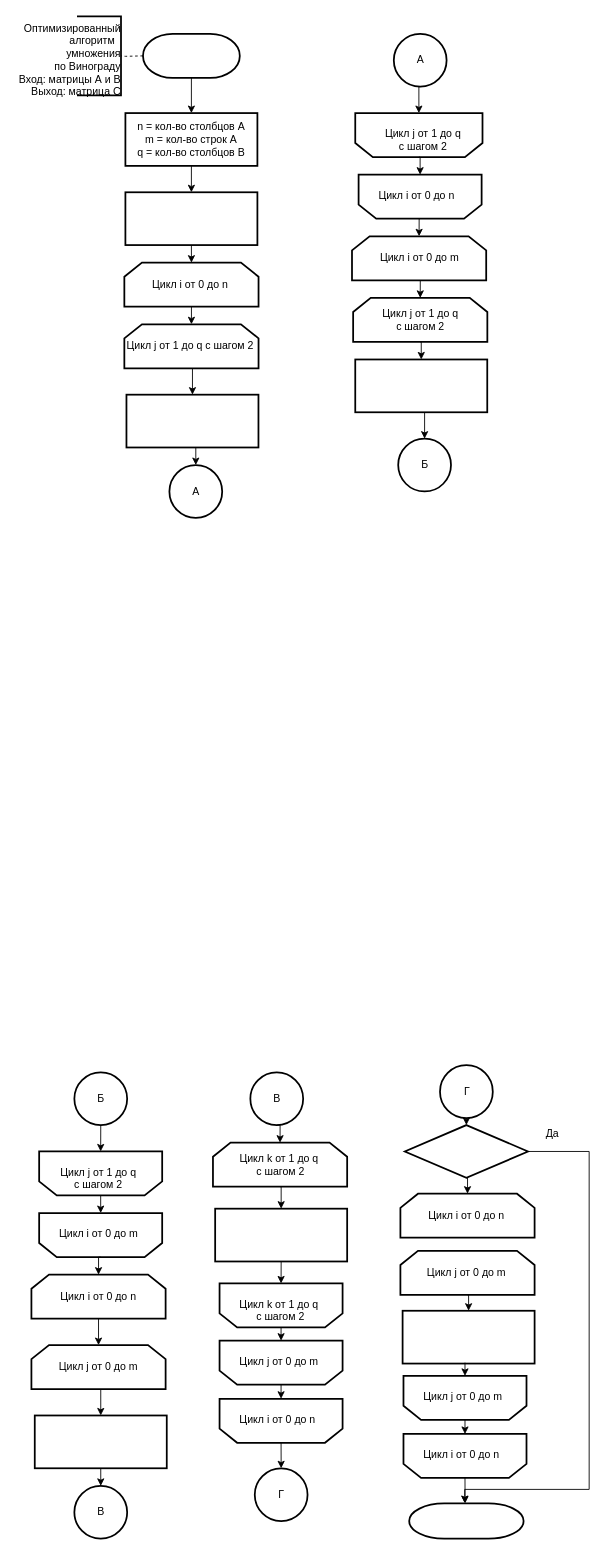
Some shapes in this 612 by 1554 pixel diagram are drawn without their labels. The centre of each missing label's shape, as x and y in pixels:
"C[i][j] += (A[i][k - 1] + B[k][j]) * (A[i][k] + B[k - 1][j)" belongs at pixel 281 1234.
"C[i][j] += A[i][q - 1] * B[q - 1][j]" belongs at pixel 468 1336.
"C[i][j] = C[i][j] - (tempA[i] + temp[j])" belongs at pixel 100 1441.
"q четное" belongs at pixel 465 1151.
"t empA]i] = tempA[i] + A[i][j - 1] * A[i][j]" belongs at pixel 192 420.
"t empB]i] = tempB[i] + B[i][j - 1] * B[i][j]" belongs at pixel 421 385.
"Конец" belongs at pixel 466 1520.
"Начало" belongs at pixel 191 55.
"Создание массивов tempA длиной n и tempB длиной m" belongs at pixel 191 218.
